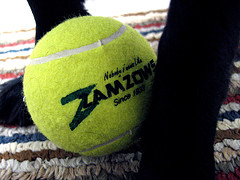tennis ball: (21, 15, 159, 157)
